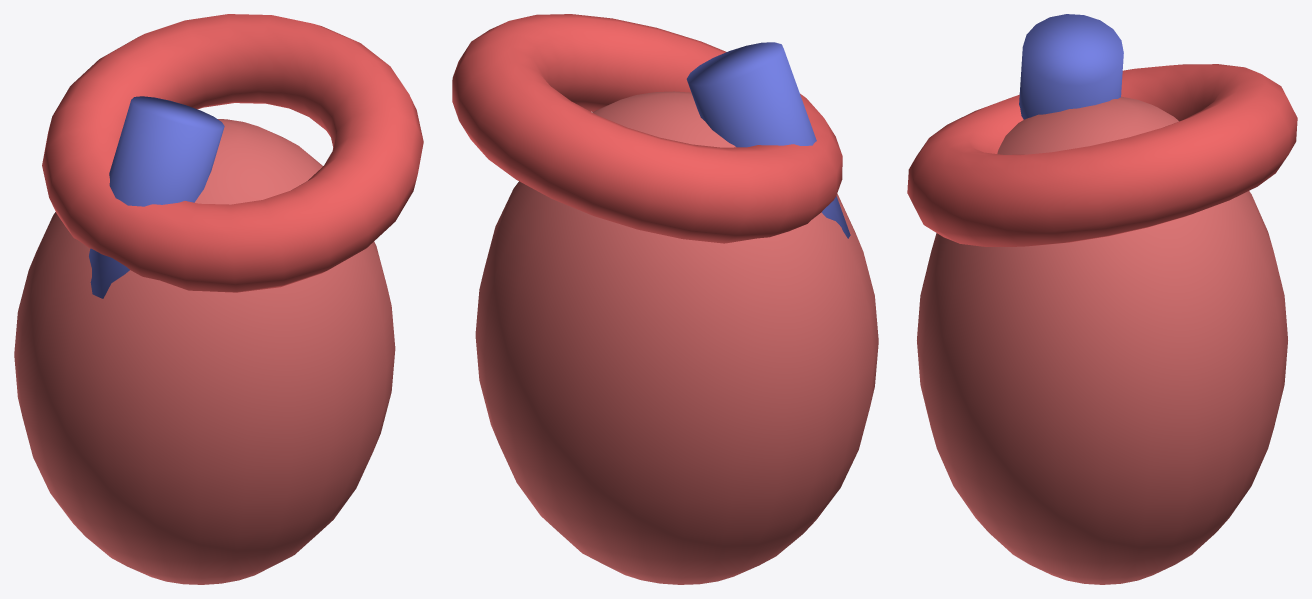
Rendered from human_heart.glb.
3 renders of one model, left to right at view 1: azimuth 30°, elevation 25°; view 2: azimuth 150°, elevation 25°; view 3: azimuth 270°, elevation 25°, orthographic. The views are drawn at different scales.
Parts seen in each view (by area): view 1: ventricles, aorta, pa; view 2: ventricles, aorta, pa; view 3: ventricles, aorta, pa.
Part boxes in pixels (left/top/right/bottom): ventricles: left=14, top=119, right=395, bottom=584; aorta: left=42, top=14, right=423, bottom=292; pa: left=89, top=96, right=224, bottom=298; ventricles: left=475, top=91, right=878, bottom=584; aorta: left=452, top=14, right=842, bottom=243; pa: left=686, top=42, right=850, bottom=238; ventricles: left=917, top=96, right=1287, bottom=584; aorta: left=907, top=64, right=1297, bottom=246; pa: left=1019, top=14, right=1123, bottom=119.
Size of the model in its own units: 1.28 by 1.68 by 1.16.
